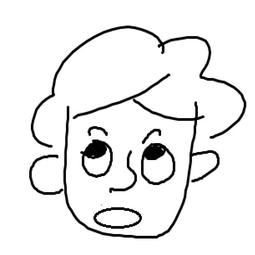ear: (24, 152, 74, 199), (183, 144, 224, 183)
eye: (76, 137, 115, 184), (141, 141, 179, 188)
eyebrow: (86, 117, 117, 136)
frowning_eyebrow: (139, 123, 165, 146)
nose: (111, 149, 138, 200)
open_mouth: (92, 206, 145, 231)
